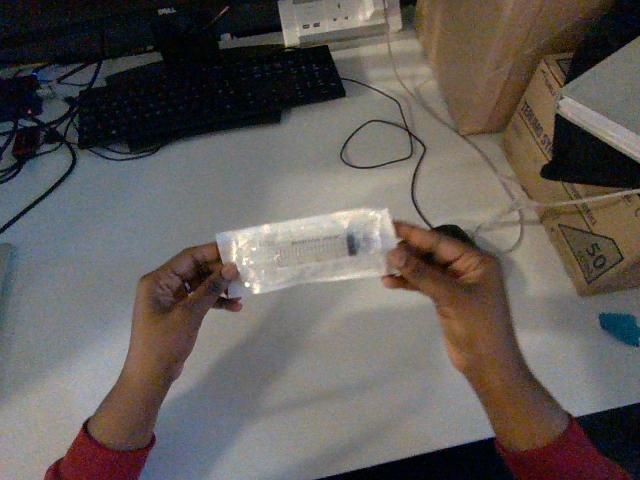syringe: (216, 209, 397, 297)
